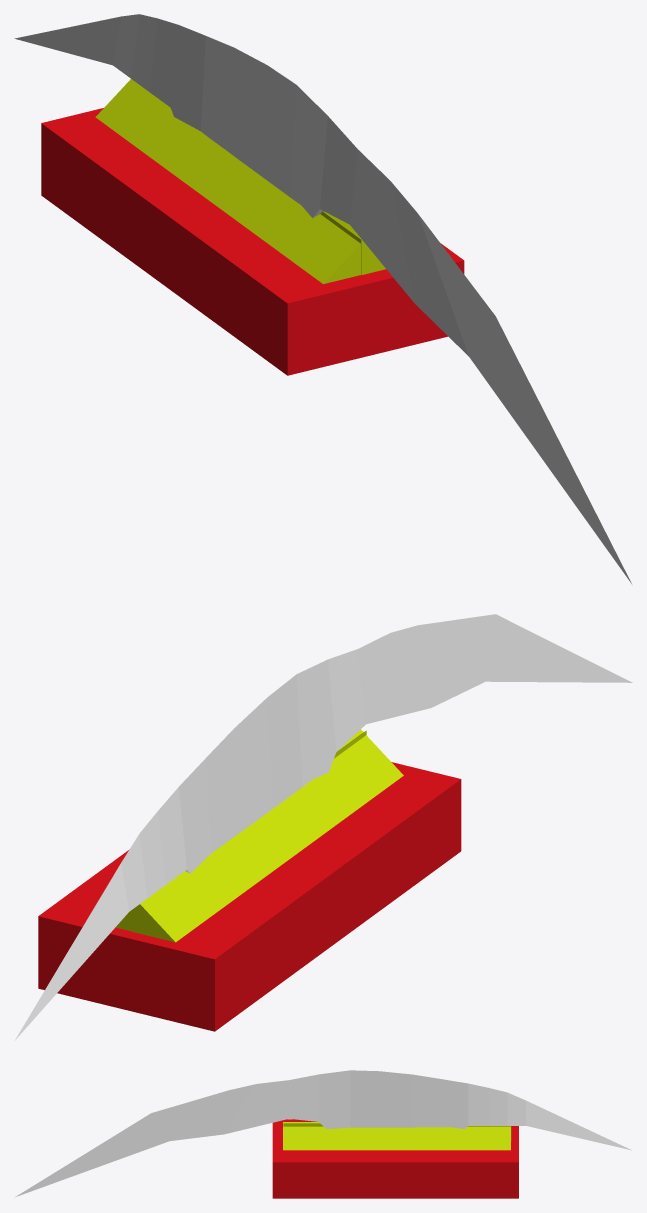
File: blade_nscPิ.fbx
3 views of the same model, one above another, from view 1: azimuth 30°, elevation 25°; view 2: azimuth 150°, elevation 25°; view 3: azimuth 270°, elevation 25° (orthographic). The views are drawn at different scales.
Visible parts, largest first — view 1: Cube.001; view 2: Cube.001; view 3: Cube.001.
Part boxes in pixels (<box>): Cube.001: <box>14,14,631,583</box>; Cube.001: <box>14,614,632,1040</box>; Cube.001: <box>15,1070,631,1198</box>.
Size of the model in its own units: 46.59 by 64.23 by 283.
